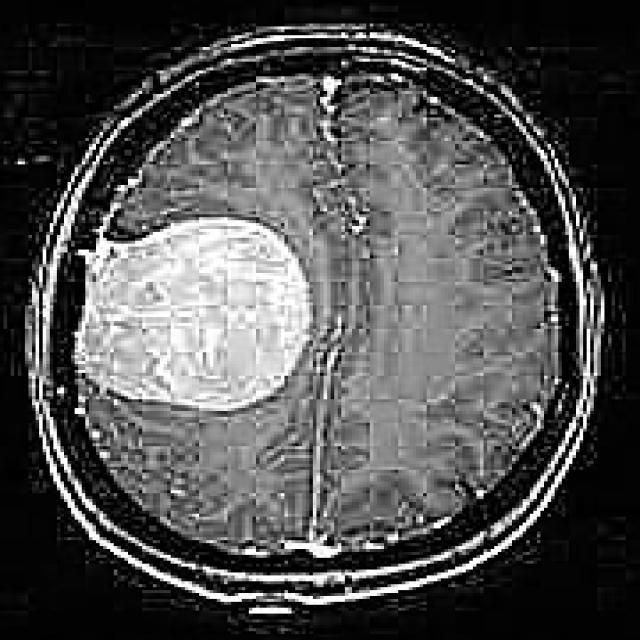Tumor-Cell: (79, 236, 290, 400)
